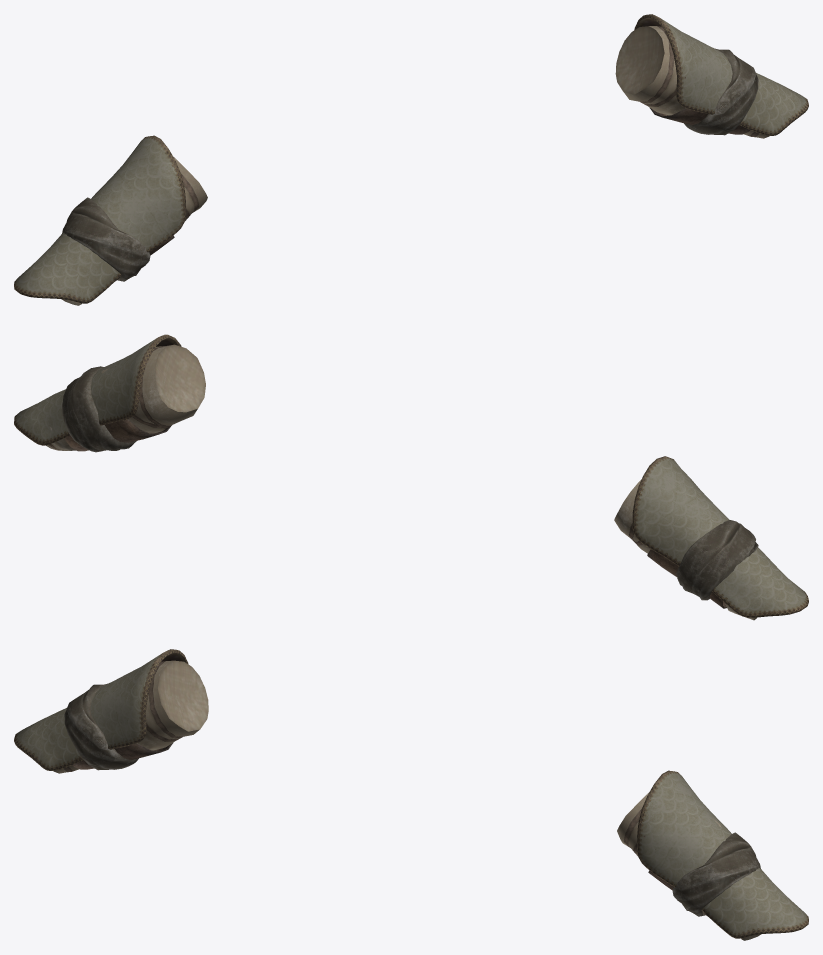
File: dunland_wulf_bracer_heavy_c.fbx
3 renders of one model, top to bottom at view 1: azimuth 30°, elevation 25°; view 2: azimuth 150°, elevation 25°; view 3: azimuth 330°, elevation 25°, orthographic.
Visible parts, largest first — view 1: dunland_wulf_bracer_heavy_c; view 2: dunland_wulf_bracer_heavy_c; view 3: dunland_wulf_bracer_heavy_c.
Boxes of the visible parts, left/top/right/bottom form: dunland_wulf_bracer_heavy_c: left=14, top=14, right=808, bottom=305; dunland_wulf_bracer_heavy_c: left=14, top=334, right=808, bottom=620; dunland_wulf_bracer_heavy_c: left=14, top=649, right=808, bottom=940.
Bounding box in the file's own units: 1.47 × 0.1571 × 0.2448.
1 material, 1 textured.
